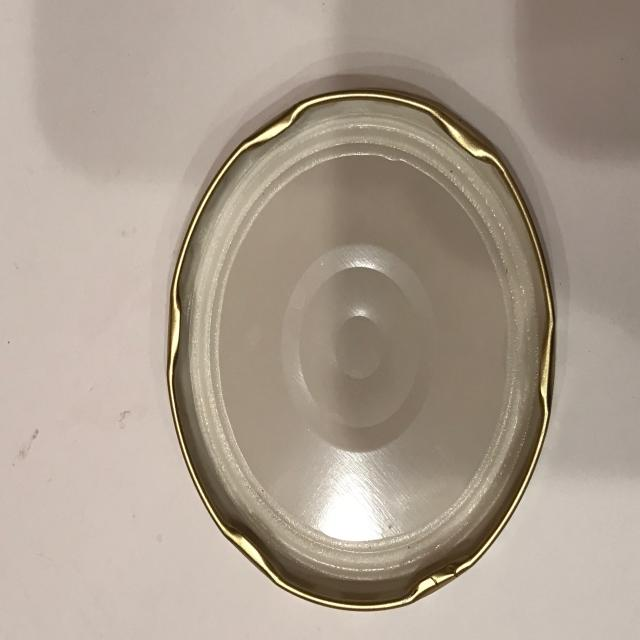metal: (166, 87, 556, 611)
